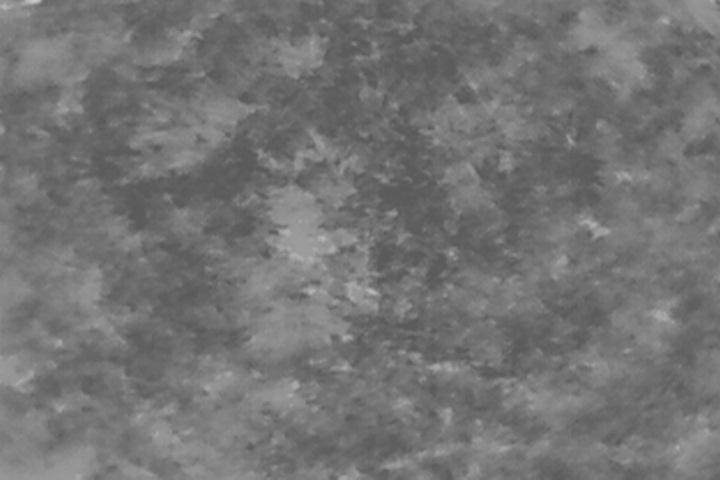landmine: (266, 191, 337, 259)
